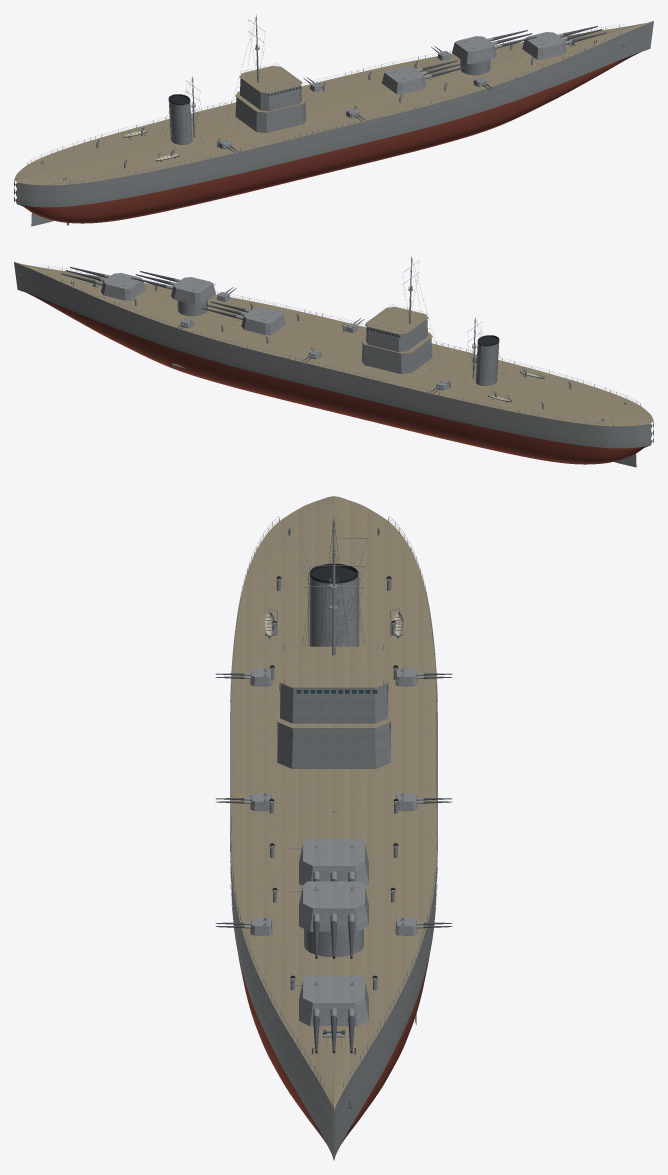
The model's file is nelson.glb.
The picture shows the model from 3 angles, top to bottom: view 1: azimuth 30°, elevation 25°; view 2: azimuth 150°, elevation 25°; view 3: azimuth 270°, elevation 25°; orthographic projection. The views are drawn at different scales.
Parts seen in each view (by area): view 1: Nelson class; view 2: Nelson class; view 3: Nelson class.
Boxes of the visible parts, box(x1,y1,x2,y2) form: Nelson class: box(14, 14, 653, 226); Nelson class: box(14, 255, 653, 467); Nelson class: box(215, 496, 452, 1160).
Size of the model in its own units: 214 by 50.97 by 34.33.
8 materials, 2 textured.
